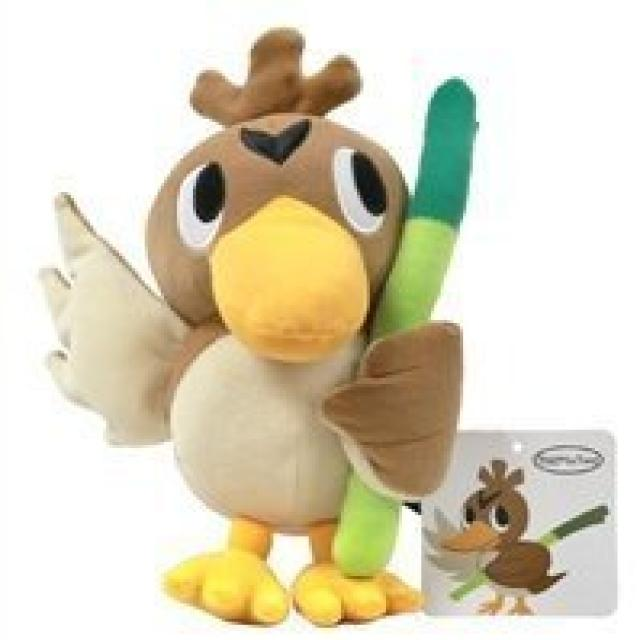Farfetchd: (56, 28, 456, 629), (421, 468, 618, 618)
